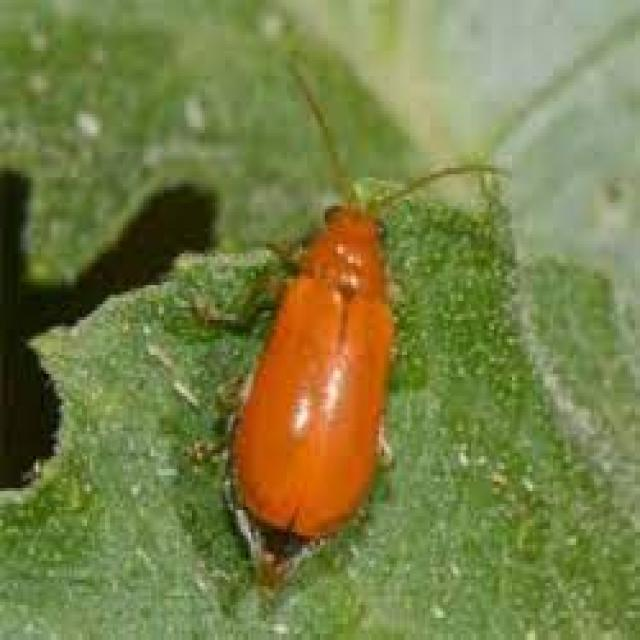Pumpkin Beetle: (186, 56, 521, 606)
